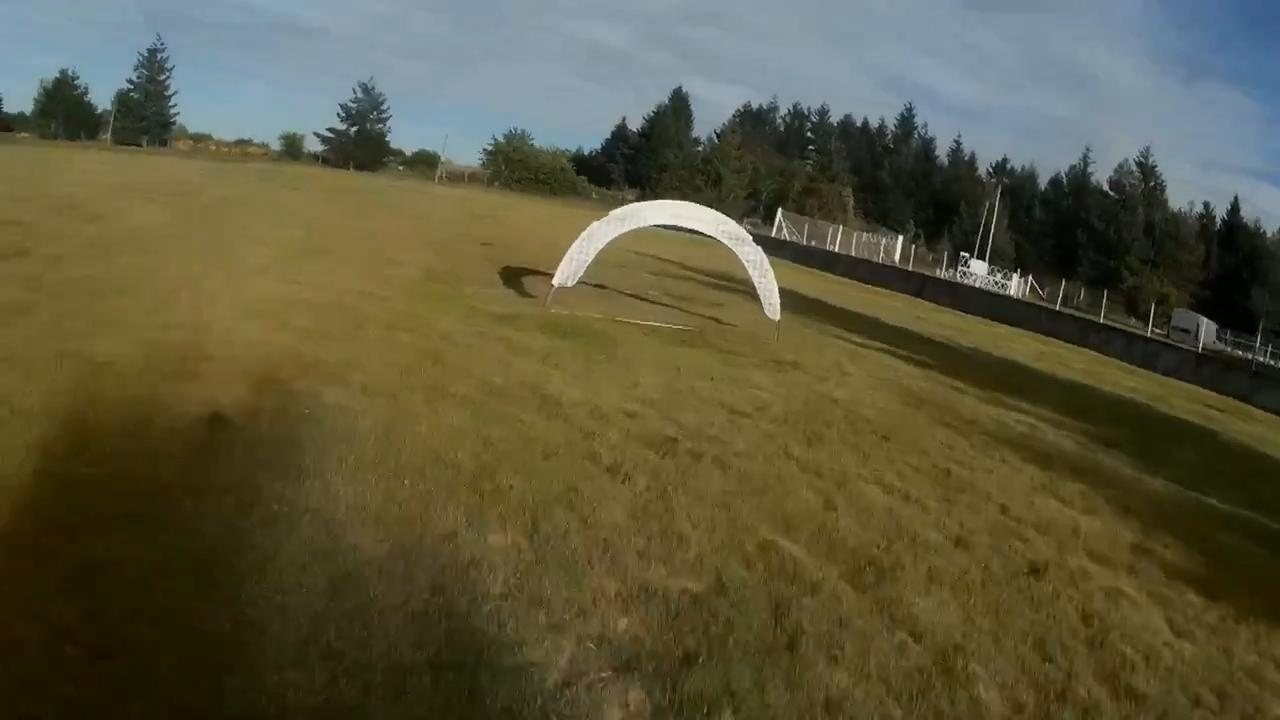gate: (550, 198, 777, 319)
